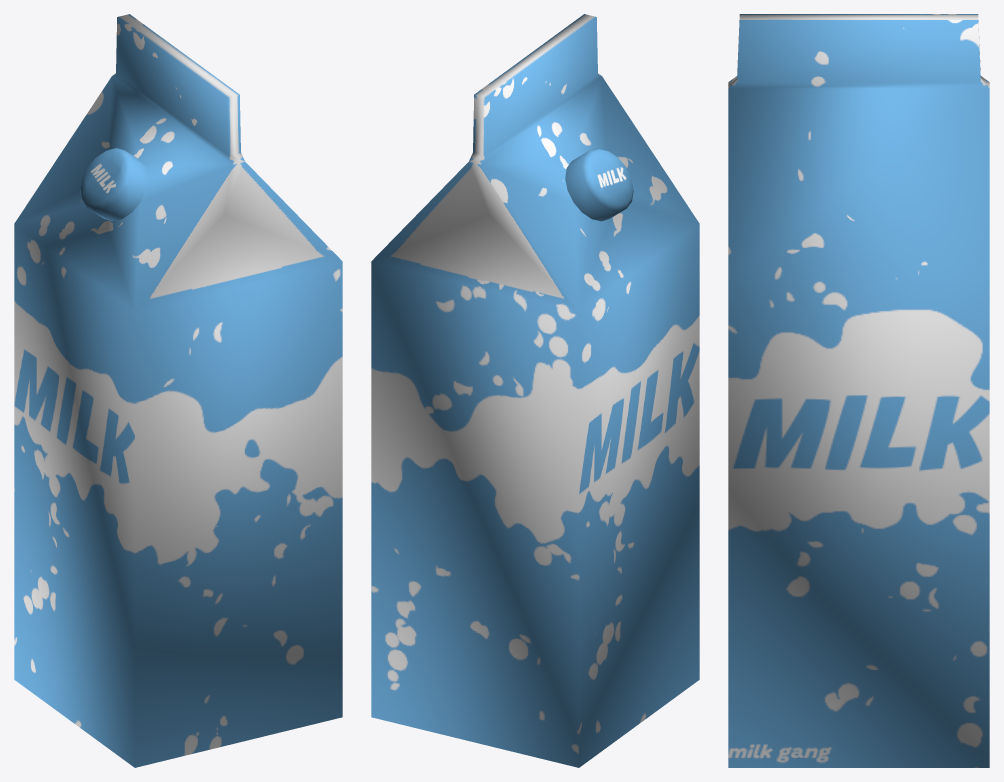
The model's file is milk_2.glb.
3 views of the same model, side by side, from view 1: azimuth 30°, elevation 25°; view 2: azimuth 150°, elevation 25°; view 3: azimuth 270°, elevation 25° (orthographic). The views are drawn at different scales.
Visible parts, largest first — view 1: milk 2, milk.002; view 2: milk 2, milk.002; view 3: milk 2.
Part boxes in pixels (x1,y1,x2,y2): milk 2: [14, 14, 342, 767]; milk.002: [80, 148, 148, 221]; milk 2: [371, 14, 699, 767]; milk.002: [565, 148, 633, 221]; milk 2: [728, 14, 989, 767].
Size of the model in its own units: 0.3434 by 1.01 by 0.3453.
1 material, 1 textured.
